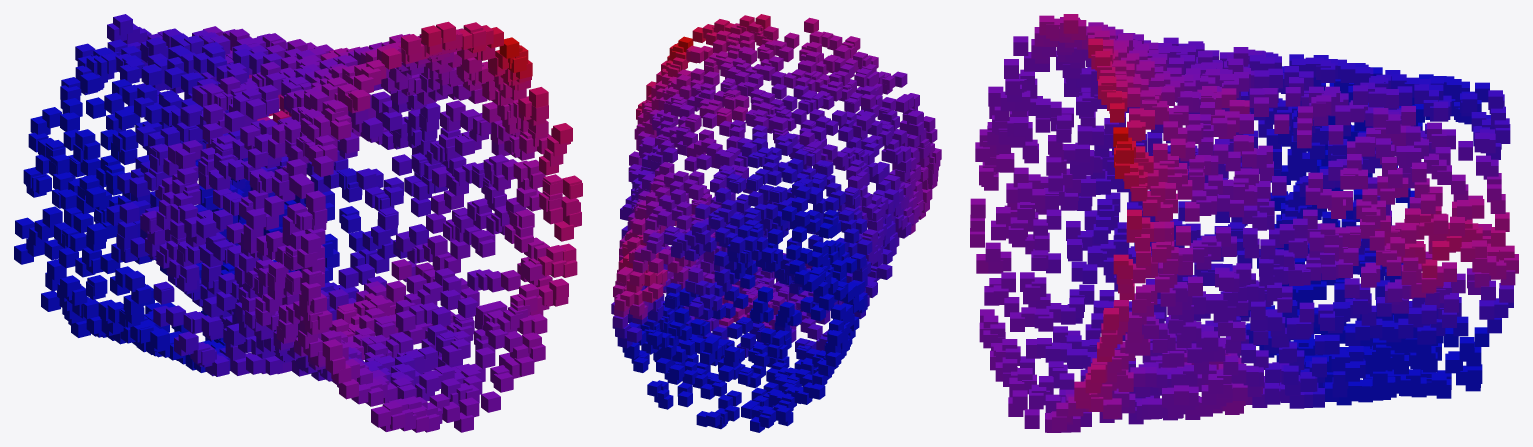
Rendered from heatmap.glb.
The picture shows the model from 3 angles, left to right: view 1: azimuth 30°, elevation 25°; view 2: azimuth 150°, elevation 25°; view 3: azimuth 270°, elevation 25°; orthographic projection. The views are drawn at different scales.
Visible parts, largest first — view 1: world; view 2: world; view 3: world.
Boxes of the visible parts, x1,y1,x2,y2 form: world: [14, 14, 582, 432]; world: [611, 14, 941, 432]; world: [970, 14, 1518, 432].
Size of the model in its own units: 0.0979 by 0.0899 by 0.1108.
